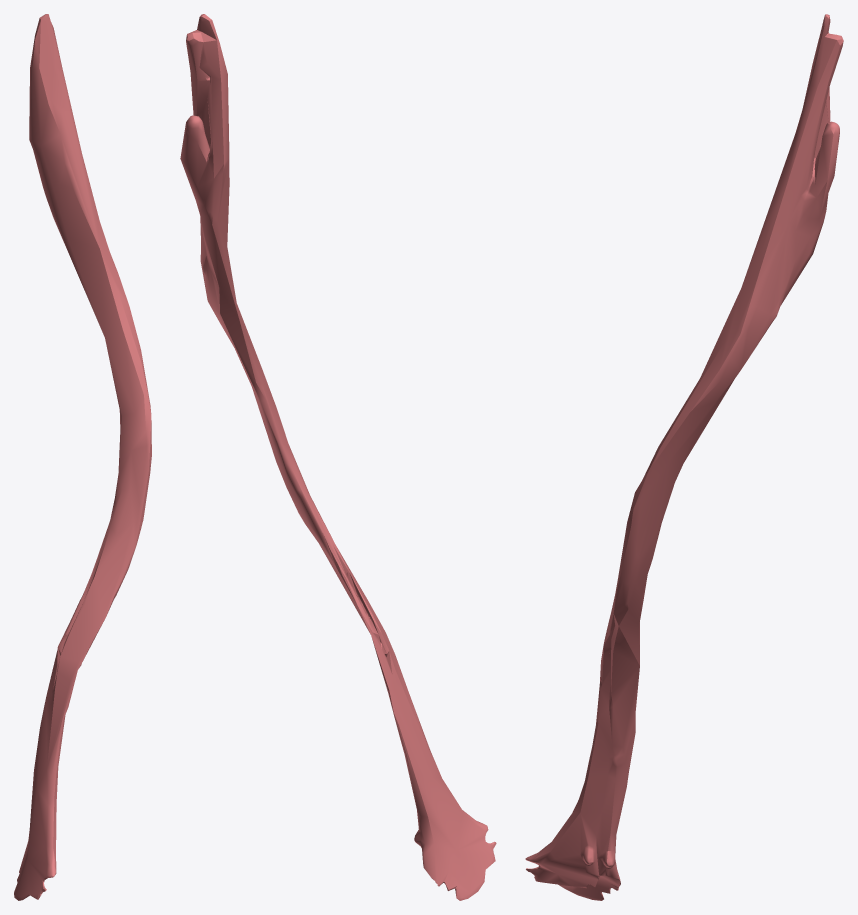
3 renders of one model, left to right at view 1: azimuth 30°, elevation 25°; view 2: azimuth 150°, elevation 25°; view 3: azimuth 270°, elevation 25°, orthographic. The views are drawn at different scales.
Parts seen in each view (by area): view 1: FJ1411; view 2: FJ1411; view 3: FJ1411.
Boxes of the visible parts, box(x1,y1,x2,y2) form: FJ1411: box(14, 14, 151, 900); FJ1411: box(180, 14, 496, 900); FJ1411: box(525, 14, 843, 900).
Size of the model in its own units: 0.0299 by 0.1321 by 0.0397.
